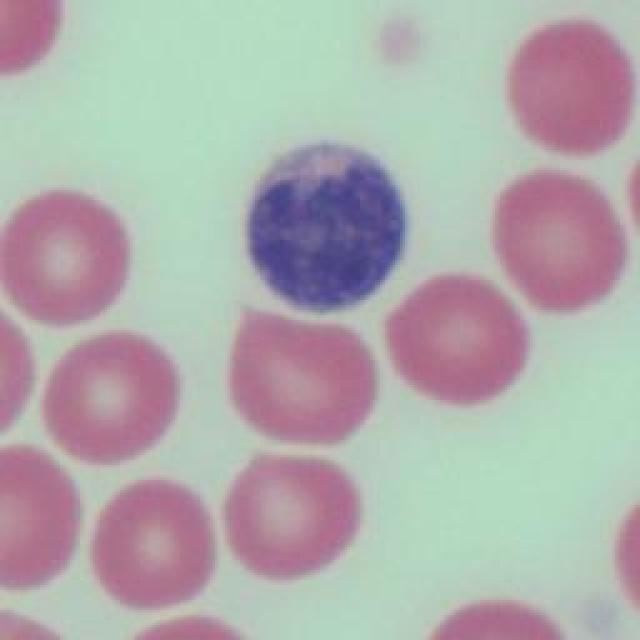RBC: (382, 272, 530, 412), (492, 166, 630, 314), (228, 314, 378, 448), (1, 188, 134, 328), (42, 331, 180, 464), (225, 452, 365, 582), (506, 20, 634, 160), (88, 476, 218, 612), (0, 441, 80, 599), (425, 595, 567, 640), (0, 0, 65, 78), (0, 308, 35, 442), (610, 505, 640, 613), (122, 615, 248, 640), (0, 607, 60, 640)
WBC: (247, 142, 405, 312)
